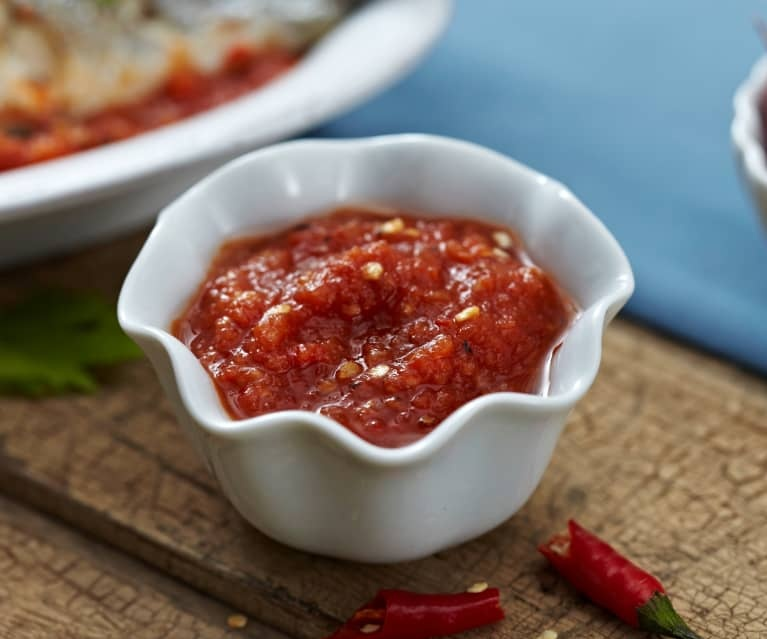sambal: (194, 208, 563, 424)
